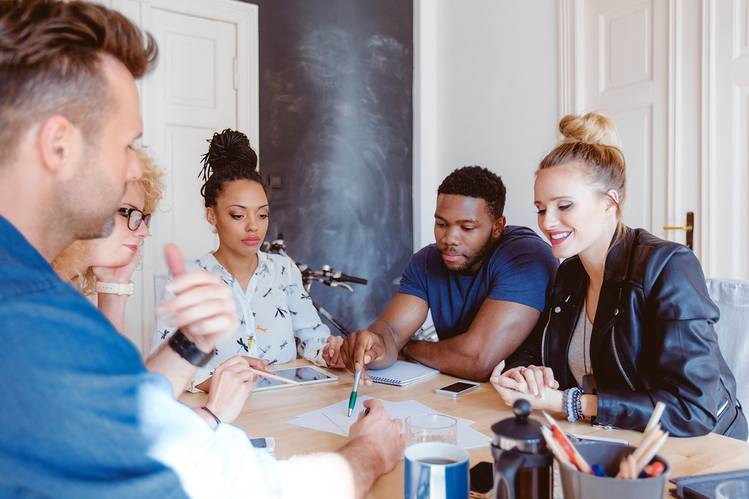Person: (489, 110, 749, 440), (153, 127, 351, 389), (339, 163, 562, 385)
